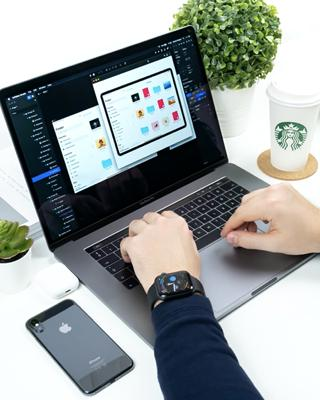cell-phone: (23, 290, 140, 396)
